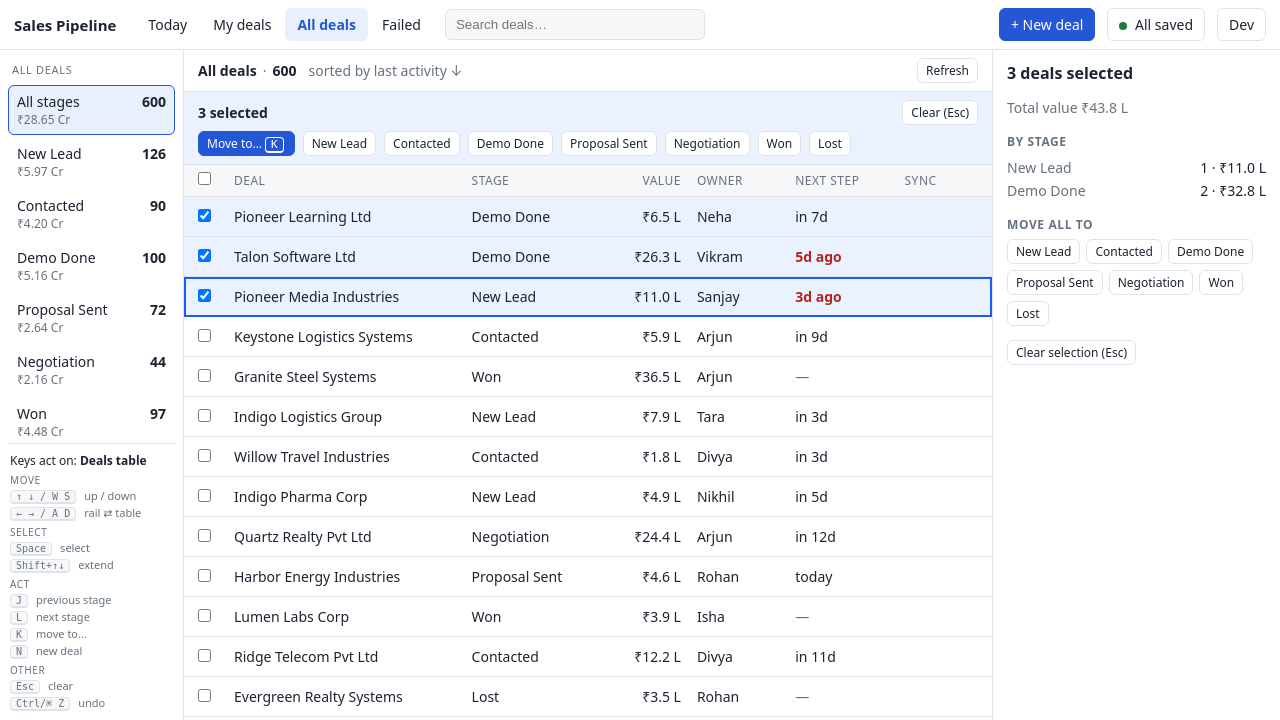
Test: grid accessibility and keyboard › with several deals selected the panel shows a summary, and the bulk bar keeps "Move to…"
expect the element named "Deal details" shows "3 deals selected": met, box [992, 50, 1279, 719]
expect the element named "Deal details" shows "Total value": met, box [1007, 98, 1081, 117]
Click the button "Move to… K".
click(246, 144)  # box [198, 131, 295, 156]
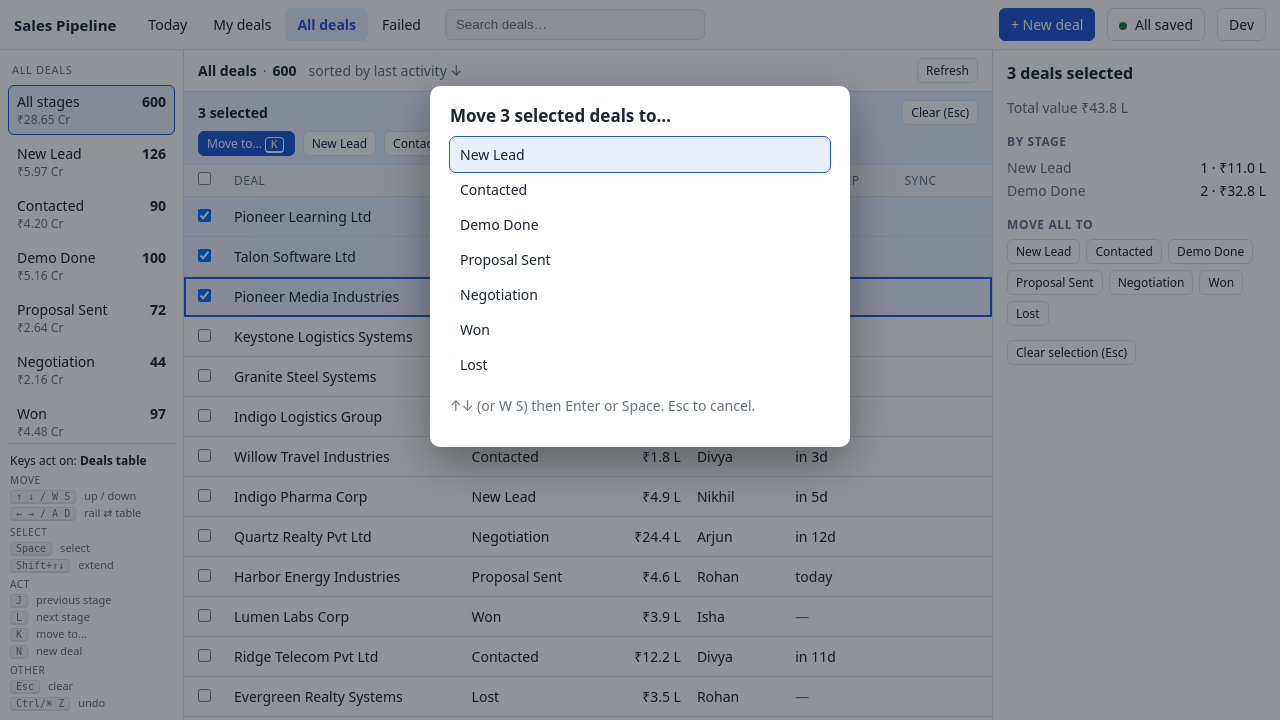
expect the dialog named "Move to stage" is shown: met, box [430, 86, 850, 447]
